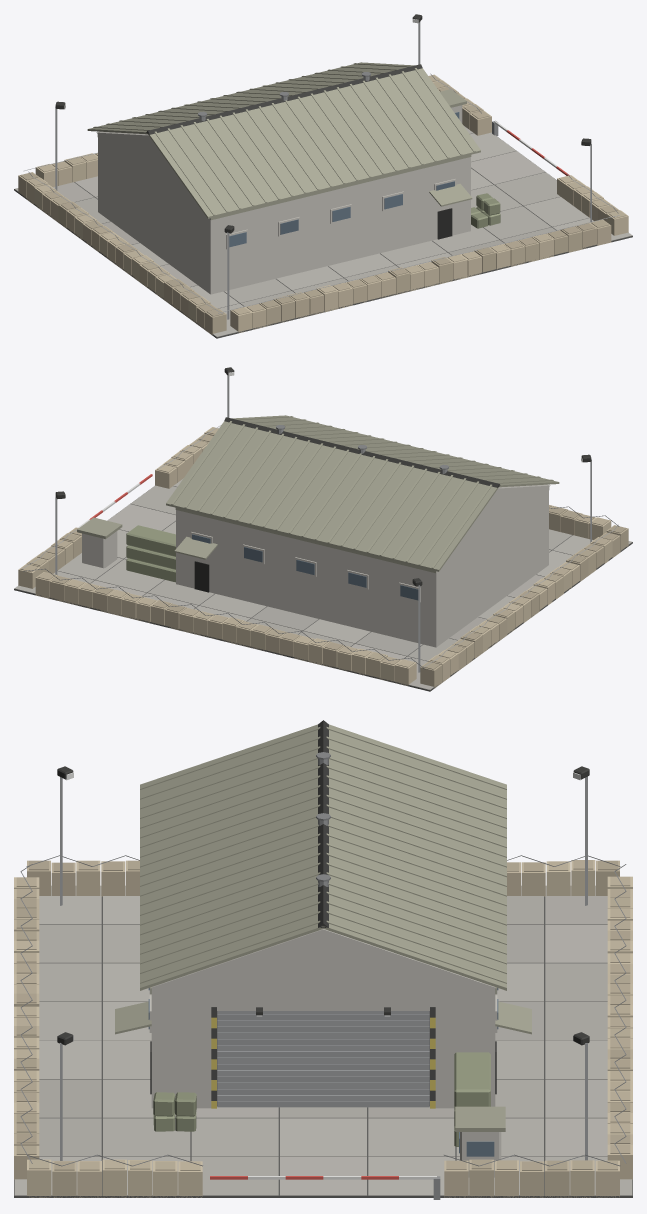
Rendered from b_mlrsshop.glb.
3 renders of one model, top to bottom at view 1: azimuth 30°, elevation 25°; view 2: azimuth 150°, elevation 25°; view 3: azimuth 270°, elevation 25°, orthographic. The views are drawn at different scales.
Parts seen in each view (by area): view 1: hull; view 2: hull; view 3: hull, door.
Part boxes in pixels (x1,y1,x2,y2): hull: [14, 14, 632, 338]; hull: [14, 367, 632, 691]; hull: [14, 720, 632, 1199]; door: [217, 1011, 429, 1107].
Bounding box in the file's own units: 32.2 × 9.52 × 27.
